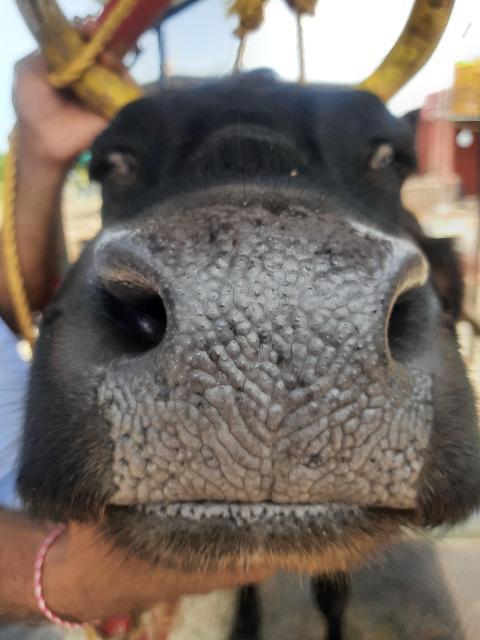Muzzle: (166, 233, 382, 497)
